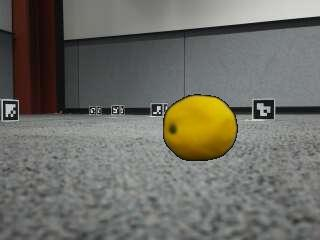lemon: (163, 95, 236, 159)
